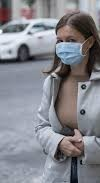with_mask: (54, 20, 96, 68)
